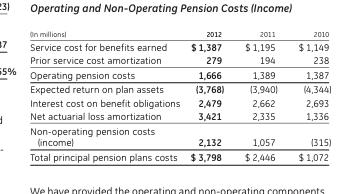table: (29, 28, 330, 162)
table column: (29, 28, 184, 162), (233, 28, 287, 162), (184, 28, 233, 162), (287, 28, 330, 162)
table column header: (29, 28, 330, 39)
table row: (29, 122, 330, 149), (29, 66, 330, 81), (29, 52, 330, 66), (29, 81, 330, 95), (29, 108, 330, 122), (29, 39, 330, 52), (29, 95, 330, 108), (29, 149, 330, 162), (29, 28, 330, 39)
